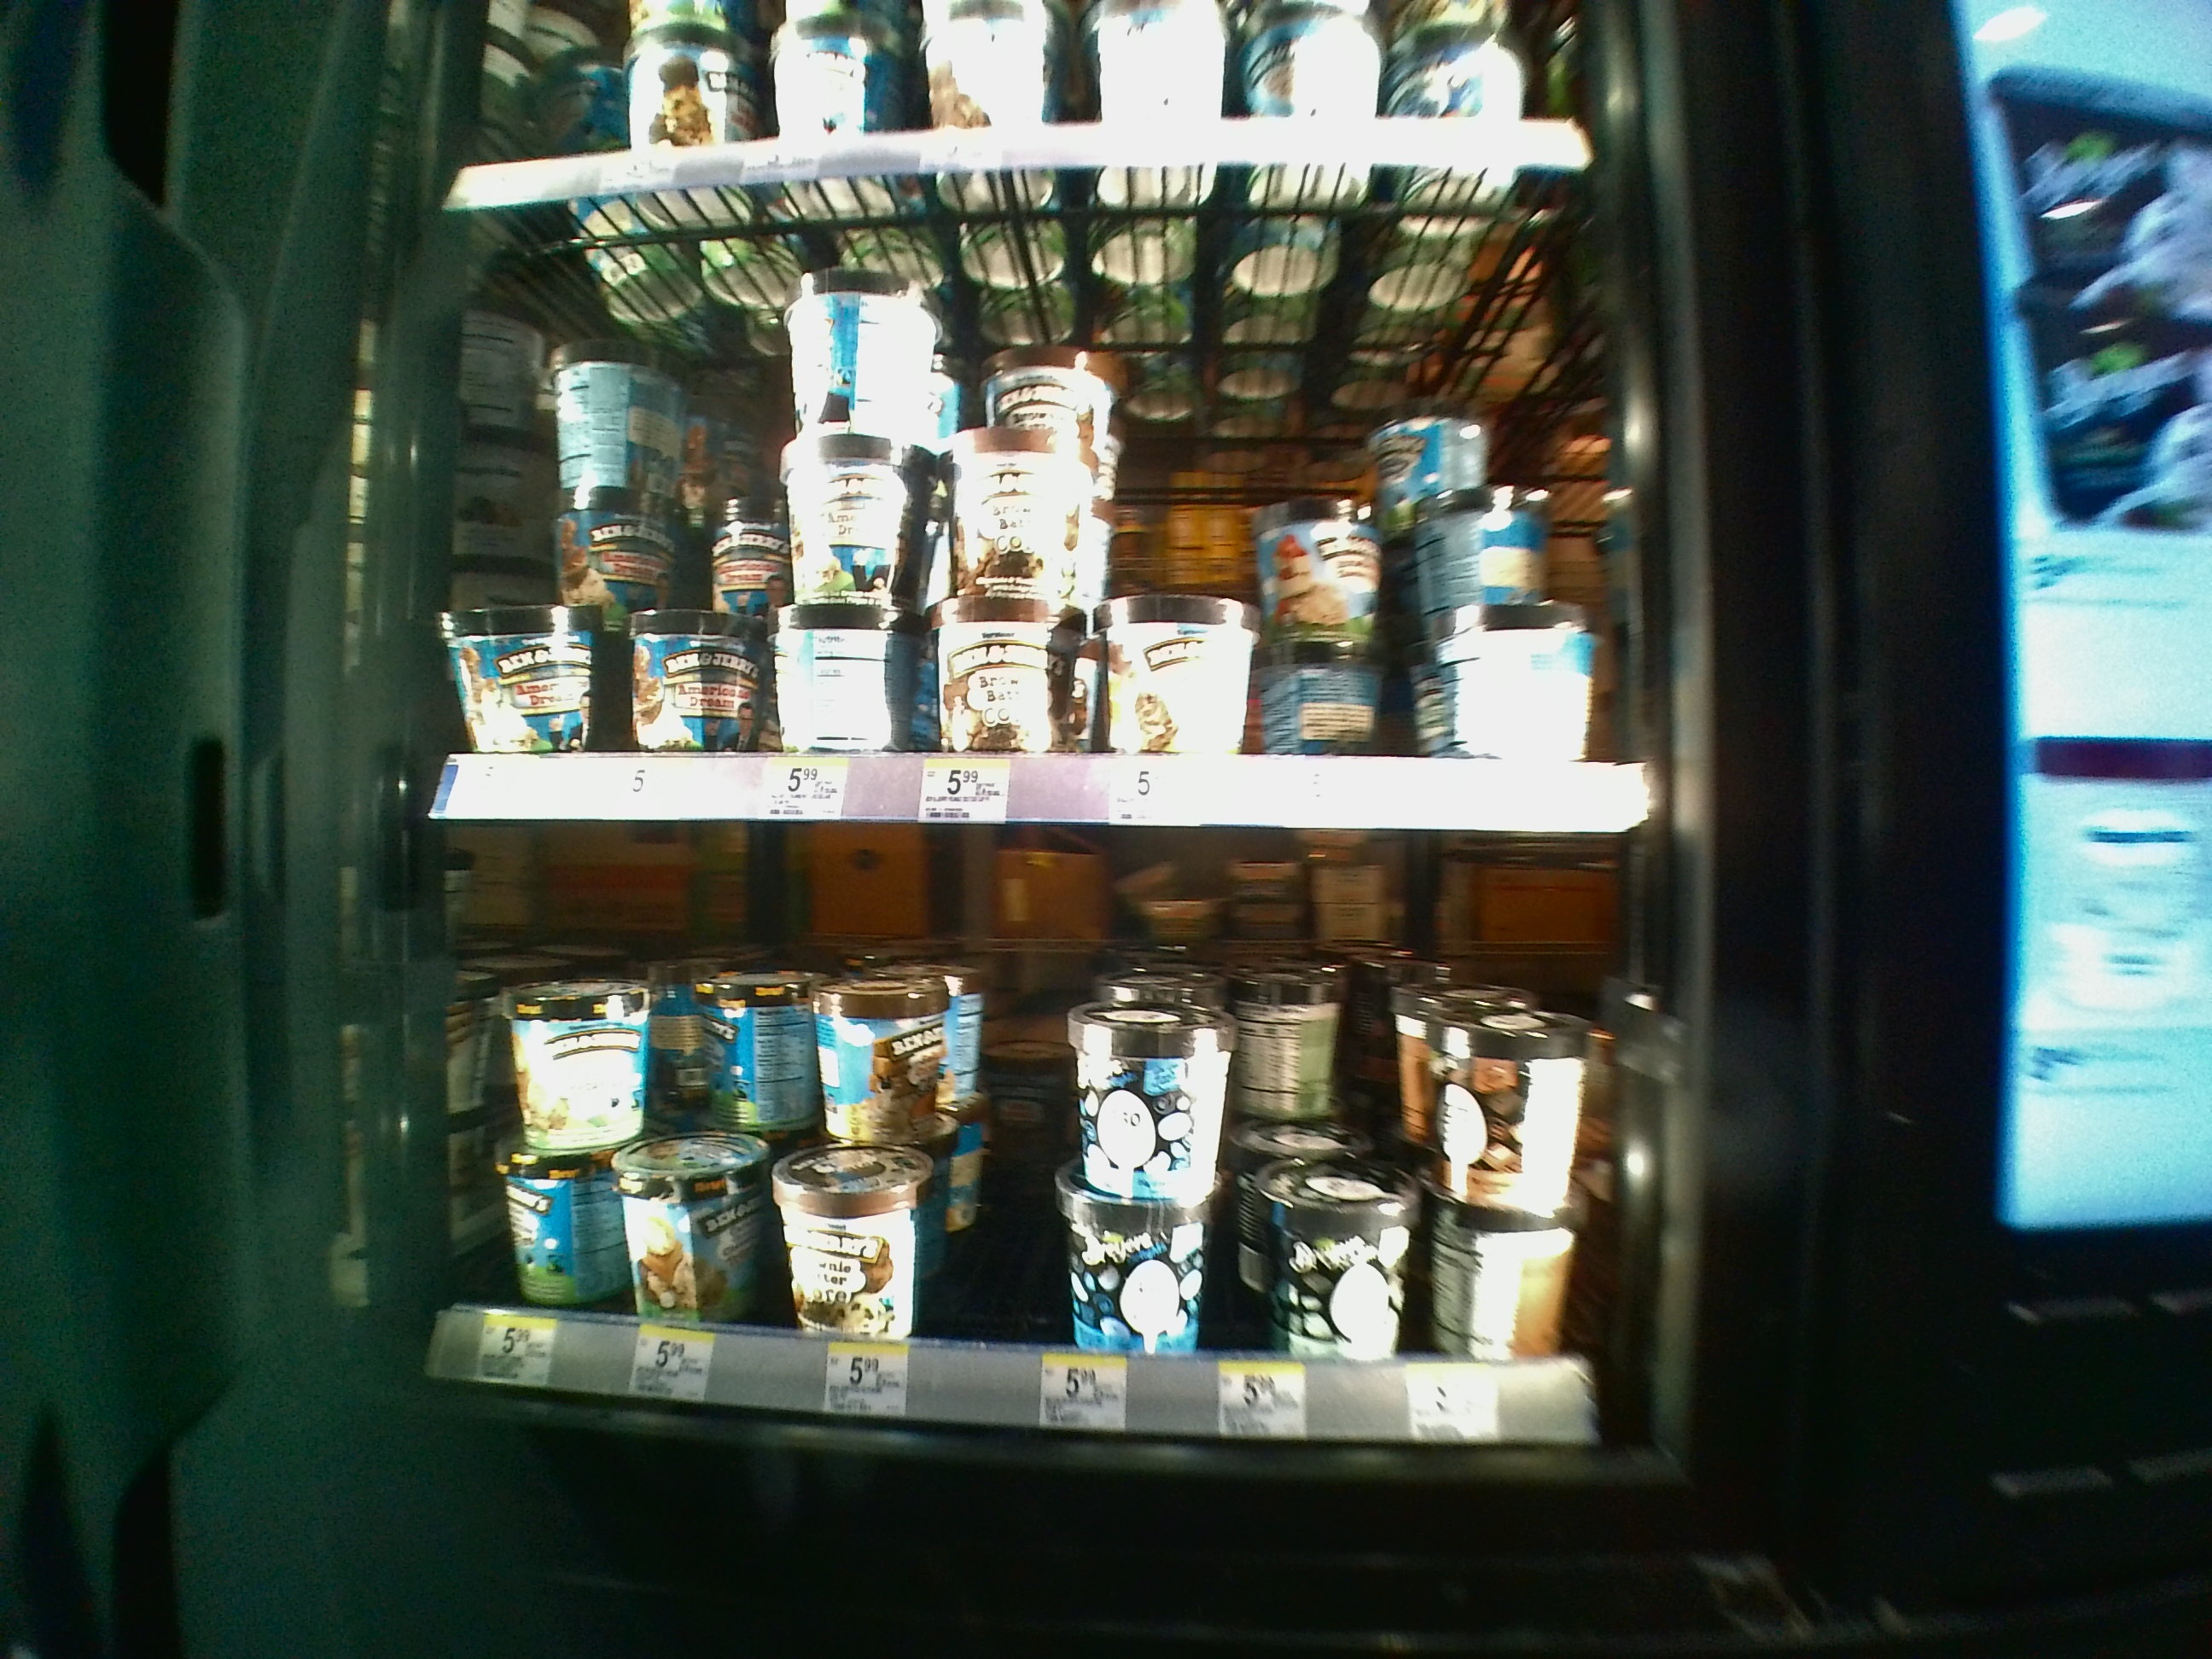shelf: (427, 209, 1649, 824), (425, 838, 1655, 1391)
